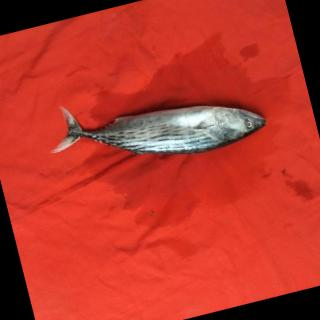Ikan: (39, 50, 281, 205)
